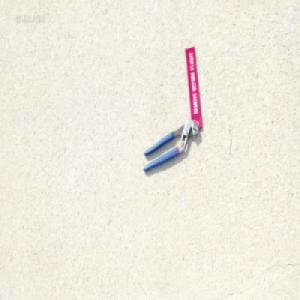Label: (183, 47, 202, 129)
Pliers: (141, 119, 198, 173)
